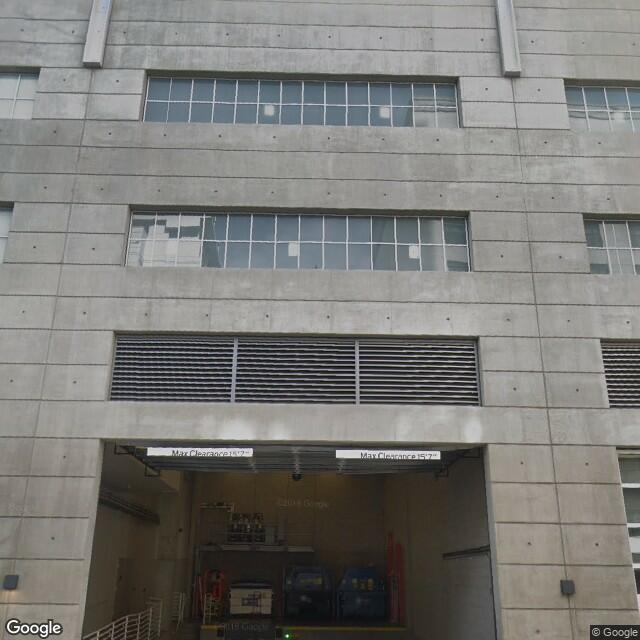window: (350, 214, 414, 271), (214, 202, 257, 274), (592, 222, 635, 272)
